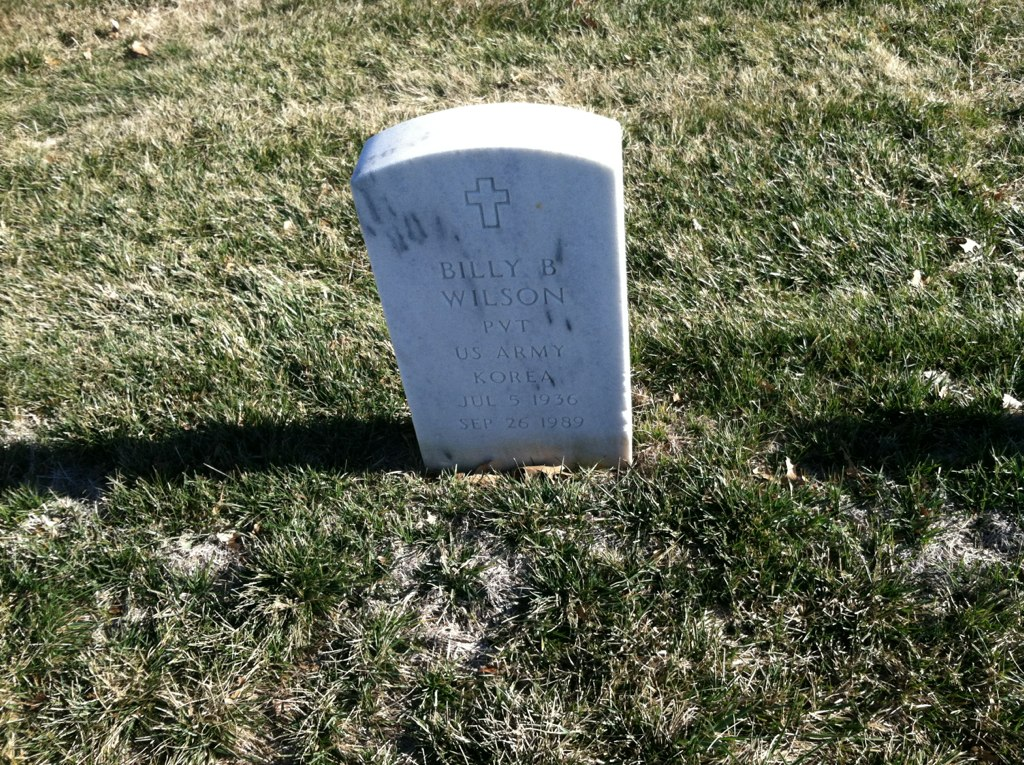military: (321, 96, 700, 517)
